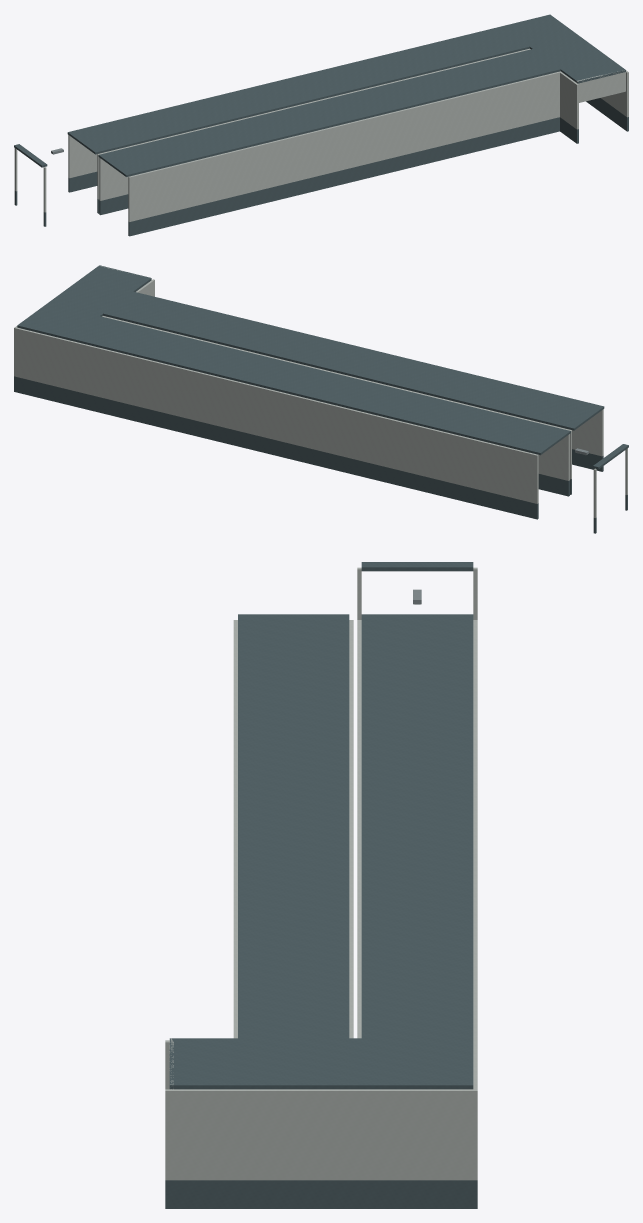
File: AST-MED-G3-004.glb
The picture shows the model from 3 angles, top to bottom: view 1: azimuth 30°, elevation 25°; view 2: azimuth 150°, elevation 25°; view 3: azimuth 270°, elevation 25°; orthographic projection. The views are drawn at different scales.
Parts seen in each view (by area): view 1: overhead_staff_bluegrey_paint_-3_-25, overhead_staff_bluegrey_paint_-4_-25, screen_wall_staff_white_paint_-3_-25, screen_wall_staff_white_paint_-4_-25, screen_wall_staff_white_paint_-5_-25, overhead_staff_bluegrey_paint_-5_-25, overhead_staff_bluegrey_paint_-2_-25, screen_wall_staff_bluegrey_paint_-5_-25, screen_wall_staff_bluegrey_paint_-4_-25, screen_wall_staff_bluegrey_paint_-3_-25, screen_wall_staff_white_paint_-2_-25, screen_wall_staff_bluegrey_paint_-2_-25 (+1 smaller); view 2: overhead_staff_bluegrey_paint_-4_-25, overhead_staff_bluegrey_paint_-3_-25, screen_wall_staff_white_paint_-3_-25, screen_wall_staff_white_paint_-4_-25, screen_wall_staff_white_paint_-5_-25, overhead_staff_bluegrey_paint_-5_-25, overhead_staff_bluegrey_paint_-2_-25, screen_wall_staff_white_paint_-2_-25, screen_wall_staff_bluegrey_paint_-3_-25, screen_wall_staff_bluegrey_paint_-4_-25, screen_wall_staff_bluegrey_paint_-5_-25, screen_wall_staff_bluegrey_paint_-2_-25; view 3: overhead_staff_bluegrey_paint_-4_-25, overhead_staff_bluegrey_paint_-3_-25, screen_wall_staff_white_paint_-2_-25, overhead_staff_bluegrey_paint_-5_-25, overhead_staff_bluegrey_paint_-2_-25, screen_wall_staff_bluegrey_paint_-2_-25, screen_wall_staff_white_paint_-4_-25, screen_wall_staff_white_paint_-3_-25, screen_wall_staff_white_paint_-5_-25.
Part boxes in pixels (x1,y1,x2,y2): overhead_staff_bluegrey_paint_-3_-25: (325, 30, 544, 114); overhead_staff_bluegrey_paint_-4_-25: (164, 69, 383, 153); screen_wall_staff_white_paint_-3_-25: (353, 52, 545, 159); screen_wall_staff_white_paint_-4_-25: (192, 92, 384, 198); screen_wall_staff_white_paint_-5_-25: (14, 131, 223, 221); overhead_staff_bluegrey_paint_-5_-25: (14, 109, 222, 176); overhead_staff_bluegrey_paint_-2_-25: (486, 14, 625, 83); screen_wall_staff_bluegrey_paint_-5_-25: (14, 171, 223, 236); screen_wall_staff_bluegrey_paint_-4_-25: (224, 160, 384, 213); screen_wall_staff_bluegrey_paint_-3_-25: (385, 120, 545, 173); screen_wall_staff_white_paint_-2_-25: (514, 48, 628, 129); screen_wall_staff_bluegrey_paint_-2_-25: (545, 98, 628, 143); overhead_staff_bluegrey_paint_-4_-25: (261, 338, 498, 429); overhead_staff_bluegrey_paint_-3_-25: (87, 296, 324, 386); screen_wall_staff_white_paint_-3_-25: (85, 320, 294, 436); screen_wall_staff_white_paint_-4_-25: (260, 362, 468, 478); screen_wall_staff_white_paint_-5_-25: (434, 405, 627, 517); overhead_staff_bluegrey_paint_-5_-25: (436, 381, 628, 469); overhead_staff_bluegrey_paint_-2_-25: (17, 265, 151, 344); screen_wall_staff_white_paint_-2_-25: (14, 279, 154, 393); screen_wall_staff_bluegrey_paint_-3_-25: (85, 394, 260, 451); screen_wall_staff_bluegrey_paint_-4_-25: (260, 436, 434, 494); screen_wall_staff_bluegrey_paint_-5_-25: (434, 449, 627, 533); screen_wall_staff_bluegrey_paint_-2_-25: (14, 376, 85, 409); overhead_staff_bluegrey_paint_-4_-25: (238, 708, 473, 865); overhead_staff_bluegrey_paint_-3_-25: (238, 865, 473, 1022); screen_wall_staff_white_paint_-2_-25: (165, 1026, 477, 1180); overhead_staff_bluegrey_paint_-5_-25: (238, 562, 473, 708); overhead_staff_bluegrey_paint_-2_-25: (169, 1022, 473, 1089); screen_wall_staff_bluegrey_paint_-2_-25: (165, 1180, 477, 1208); screen_wall_staff_white_paint_-4_-25: (233, 712, 477, 869); screen_wall_staff_white_paint_-3_-25: (233, 869, 477, 1026); screen_wall_staff_white_paint_-5_-25: (233, 567, 477, 712).
Bounding box in the file's own units: 40.14 × 4.34 × 10.08.
4 materials, 4 textured.
